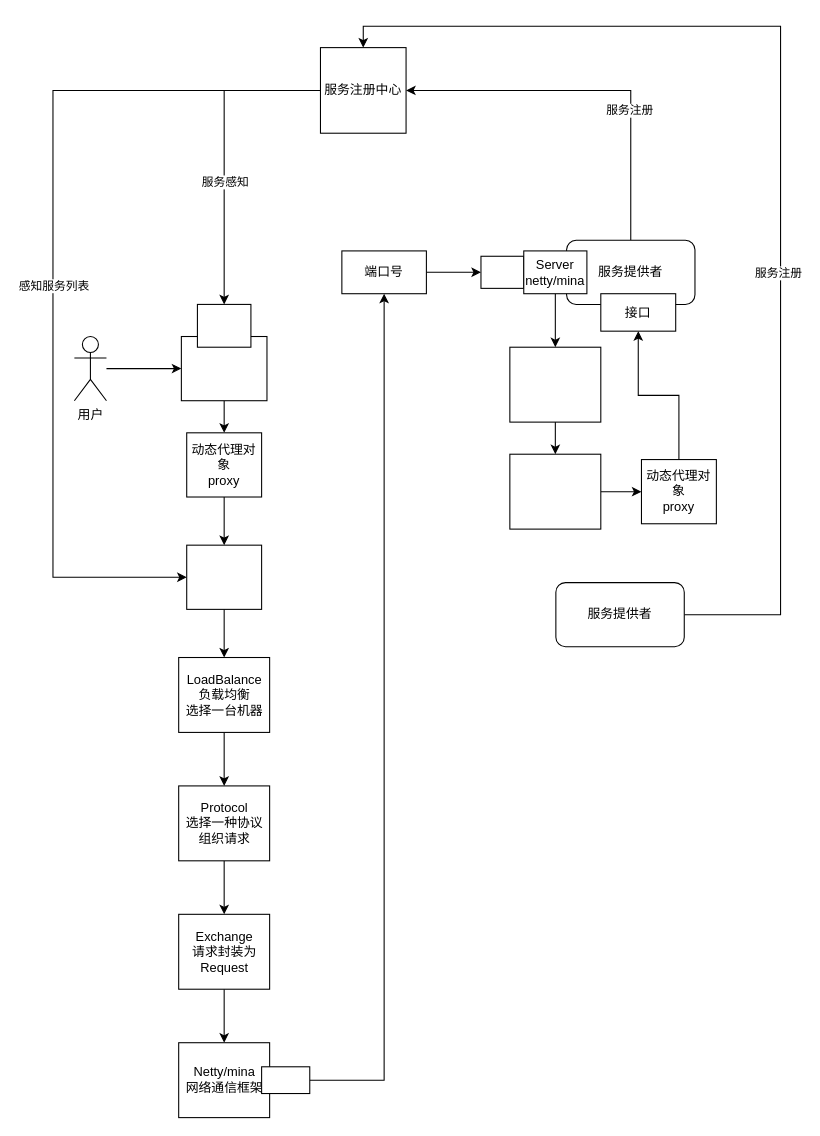
Image size: 820x1136. Some labels were removed from this diagram. The centre of each missing label's shape, as x and y in pixels:
"cluster 容错服务" belongs at (x=224, y=576).
"Exchange 解析Request" belongs at (x=555, y=384).
"Protocol 选择一种协议解析请求" belongs at (x=555, y=491).
"反序列化" belongs at (x=502, y=271).
"序列化" belongs at (x=285, y=1080).
"服务提供者 ip port" belongs at (x=223, y=325).
"消费者" belongs at (x=223, y=368).
